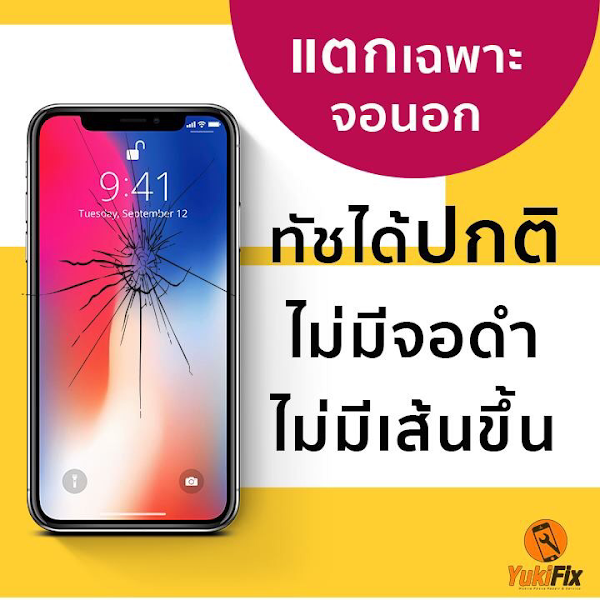Phone: (25, 101, 243, 537)
